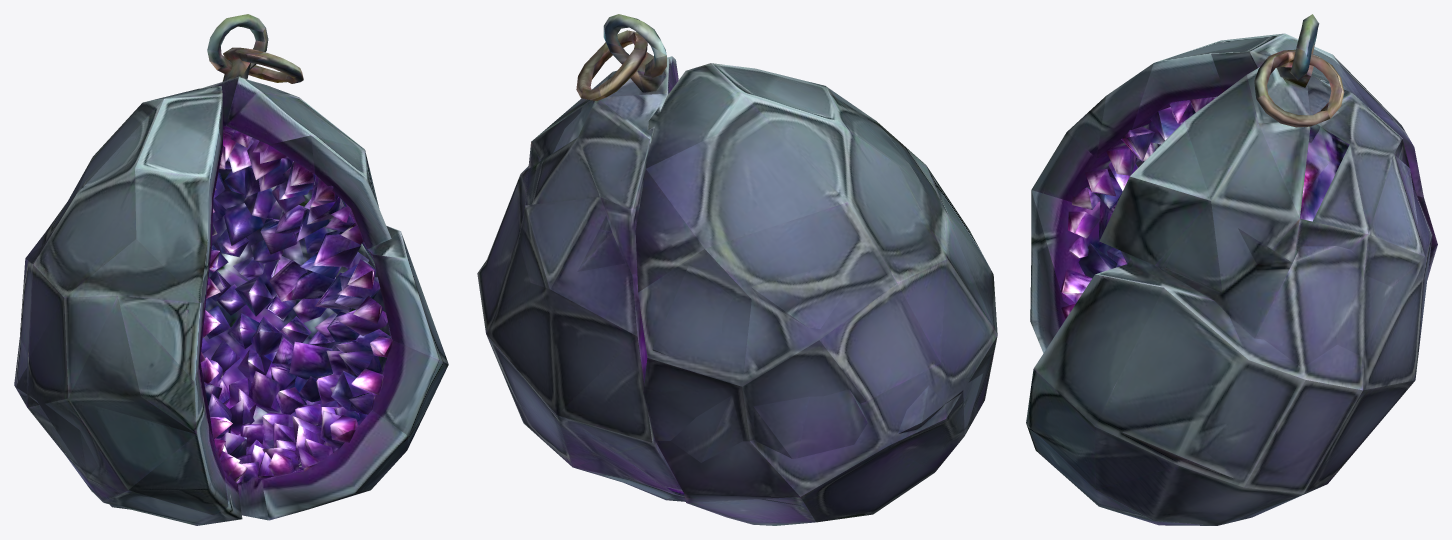
File: gold_vein.glb
3 renders of one model, left to right at view 1: azimuth 30°, elevation 25°; view 2: azimuth 150°, elevation 25°; view 3: azimuth 270°, elevation 25°, orthographic. The views are drawn at different scales.
Bounding box in the file's own units: 0.9121 × 1 × 0.752.
1 material, 1 textured.
